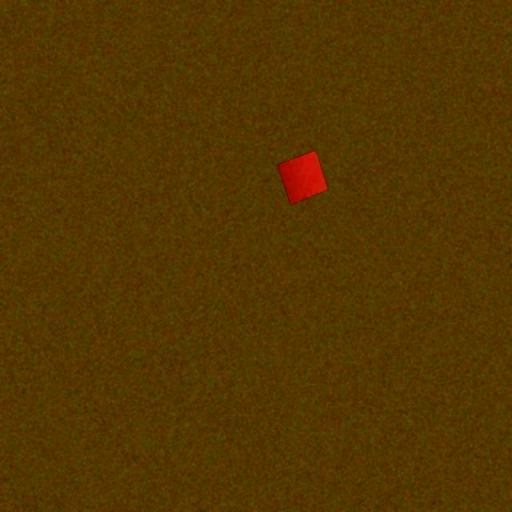RED_SQUARE: (276, 150, 330, 206)
